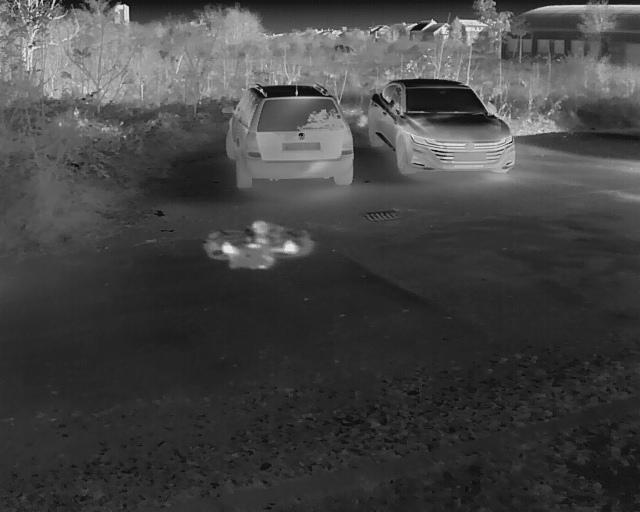drone: (201, 216, 326, 279)
